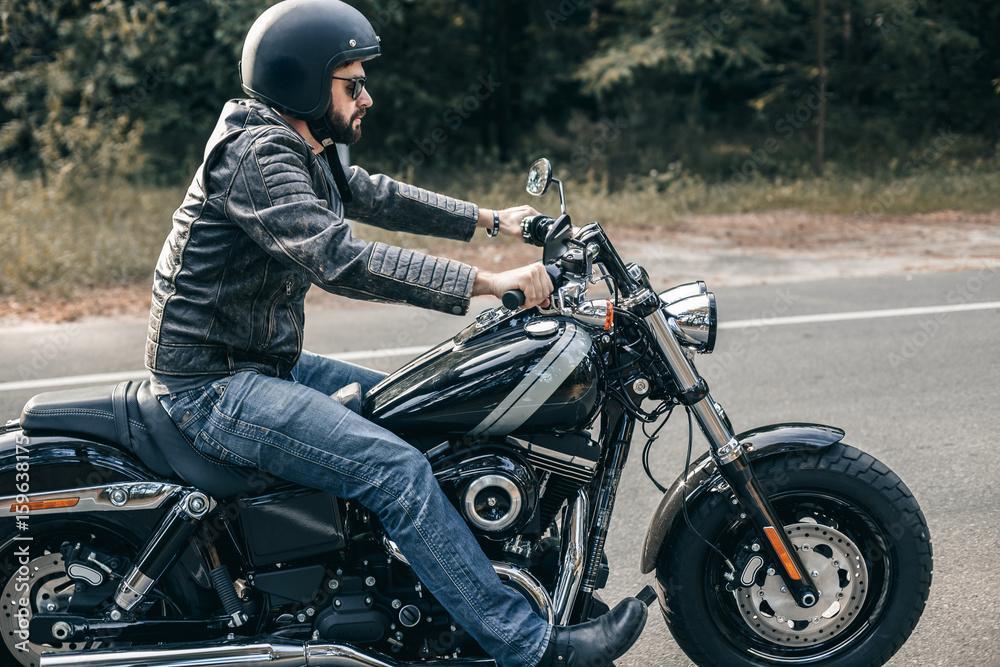helmet: (237, 0, 383, 148)
